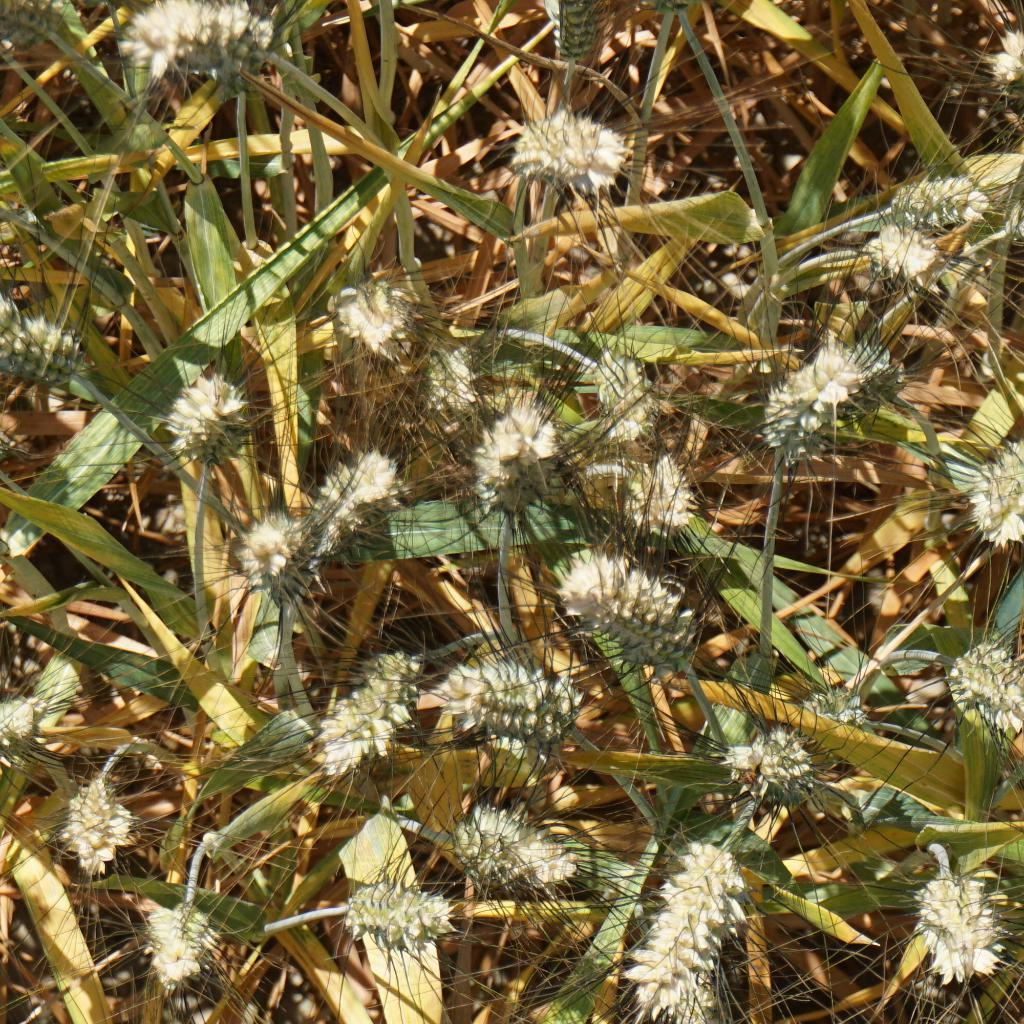0-0: (759, 323, 916, 470), (559, 541, 718, 655), (104, 2, 289, 88), (640, 821, 730, 992), (902, 858, 1013, 994), (441, 647, 582, 754), (488, 104, 635, 200), (305, 628, 417, 752), (318, 251, 431, 358), (444, 799, 570, 884), (476, 388, 559, 505), (163, 362, 258, 464), (216, 494, 313, 592), (309, 423, 407, 518), (600, 444, 709, 529), (813, 329, 911, 415), (579, 338, 663, 435), (135, 900, 218, 996), (939, 635, 1024, 728), (346, 866, 453, 933), (870, 226, 965, 301), (732, 722, 809, 811), (961, 431, 1024, 537), (403, 328, 480, 411), (67, 777, 132, 868), (0, 318, 88, 384), (803, 653, 870, 732), (893, 175, 982, 230), (537, 0, 606, 70), (3, 0, 84, 55), (978, 25, 1024, 118), (0, 681, 45, 752), (999, 173, 1024, 262), (0, 369, 19, 486), (0, 281, 13, 334)
